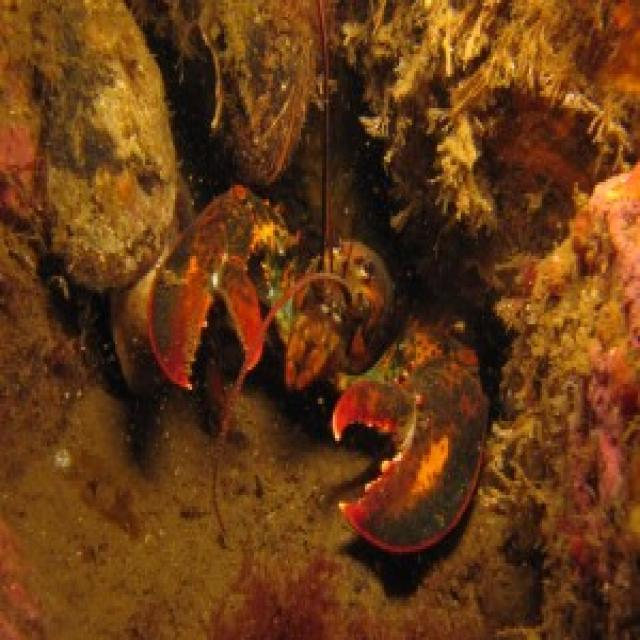lobsters: (109, 99, 518, 602)
